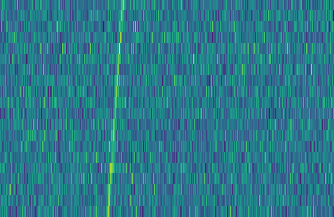signal: (101, 0, 126, 217)
